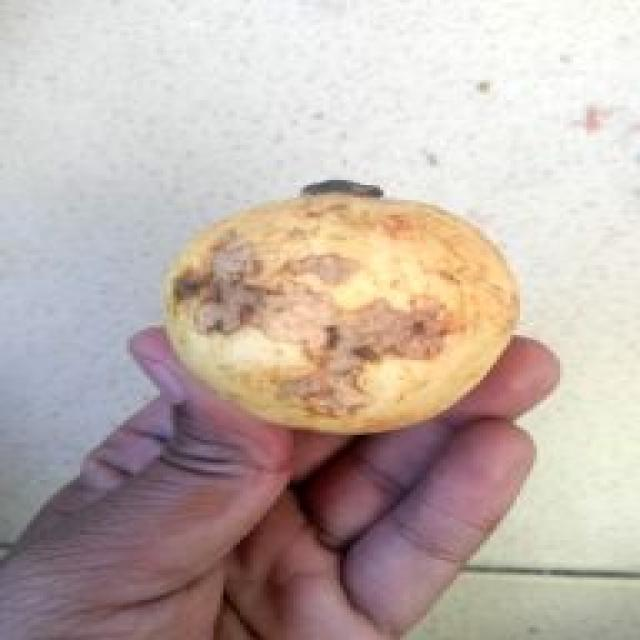Bad_Guava: (167, 192, 518, 433)
